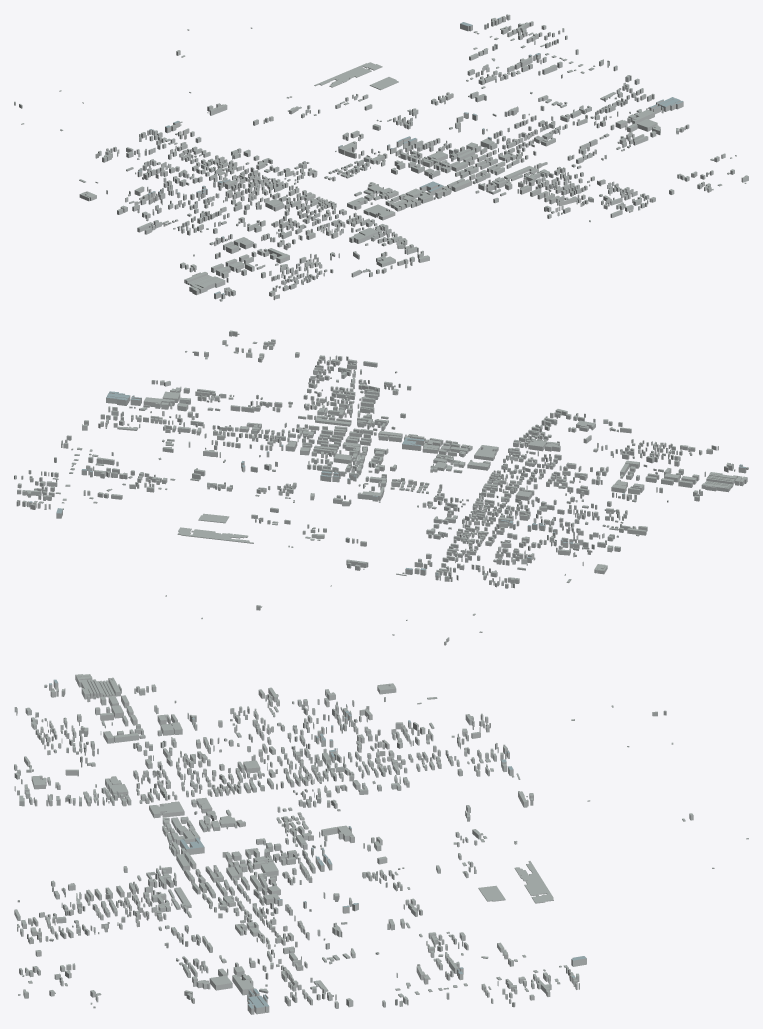
Rendered from far.glb.
3 views of the same model, one above another, from view 1: azimuth 30°, elevation 25°; view 2: azimuth 150°, elevation 25°; view 3: azimuth 270°, elevation 25° (orthographic). The views are drawn at different scales.
Bounding box in the file's own units: 2179 × 21.1 × 2017.
